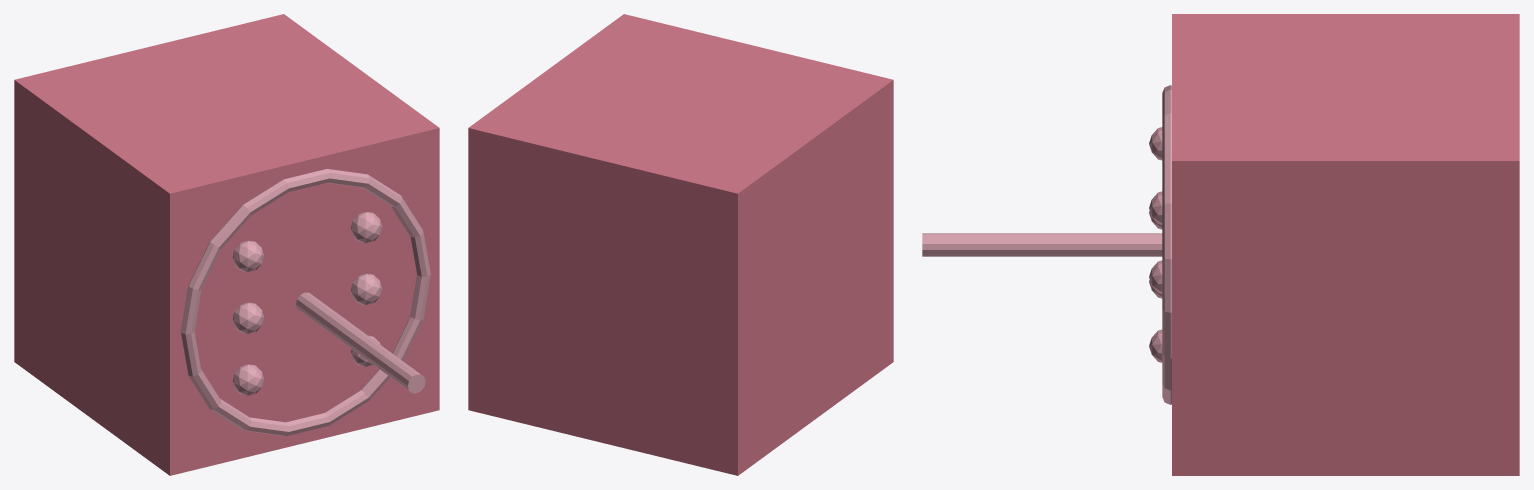
The model's file is laser.glb.
The picture shows the model from 3 angles, left to right: view 1: azimuth 30°, elevation 25°; view 2: azimuth 150°, elevation 25°; view 3: azimuth 270°, elevation 25°; orthographic projection. The views are drawn at different scales.
Visible parts, largest first — view 1: world; view 2: world; view 3: world.
Part boxes in pixels (x1,y1,x2,y2): world: [14, 14, 439, 475]; world: [468, 14, 893, 475]; world: [922, 14, 1519, 475].
Size of the model in its own units: 1.05 by 1.05 by 1.8.
